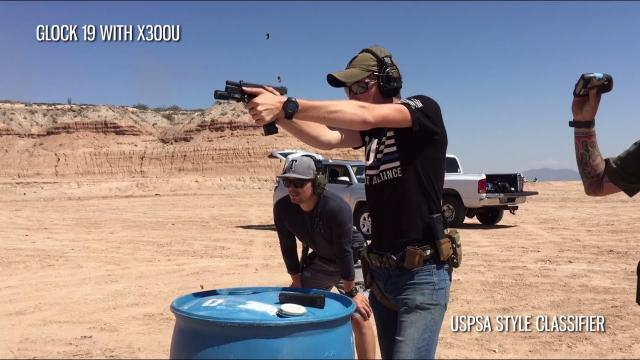handgun: (212, 78, 290, 138)
